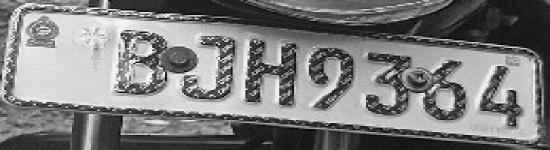3: (357, 44, 419, 123)
4: (476, 58, 528, 133)
6: (418, 52, 474, 129)
9: (303, 38, 360, 113)
B: (108, 25, 178, 100)
H: (241, 35, 305, 112)
J: (177, 29, 241, 106)
